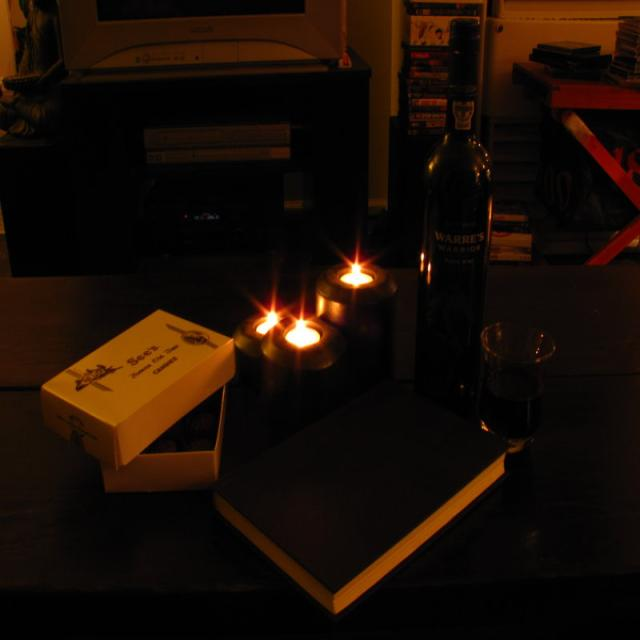Bottle: (409, 100, 485, 363)
Cup: (448, 338, 572, 489)
